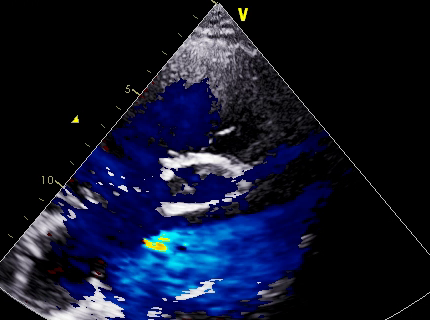TR: (102, 144, 188, 244)
